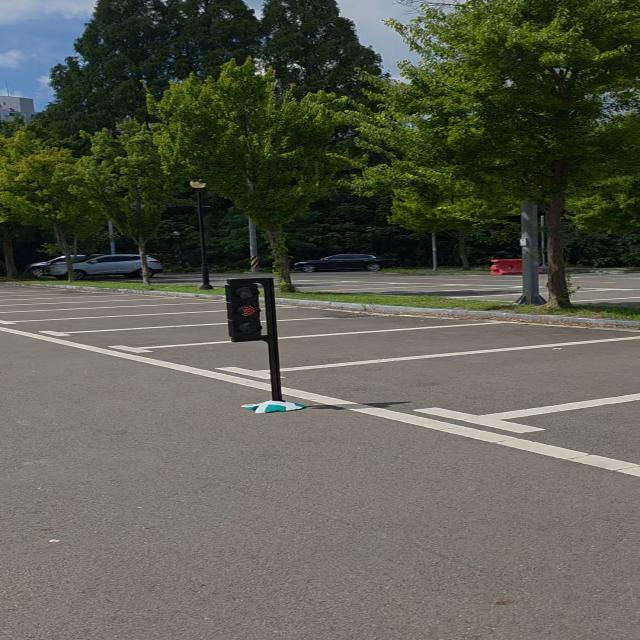yellow: (220, 278, 266, 344)
